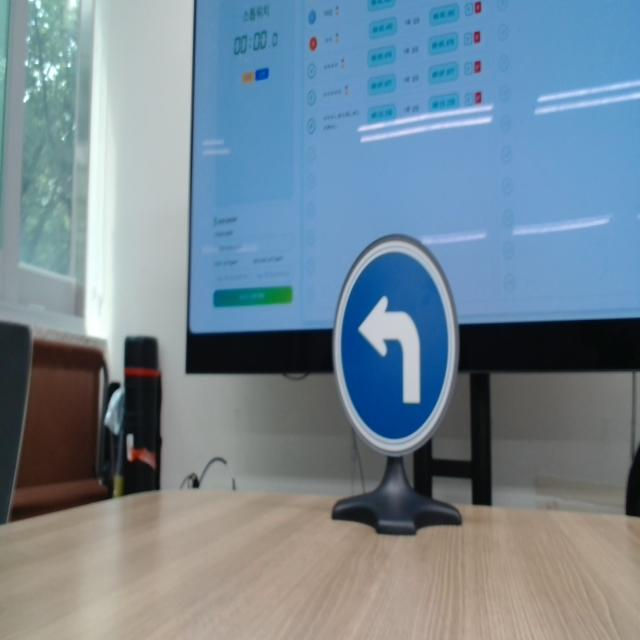left_direction: (328, 227, 468, 459)
